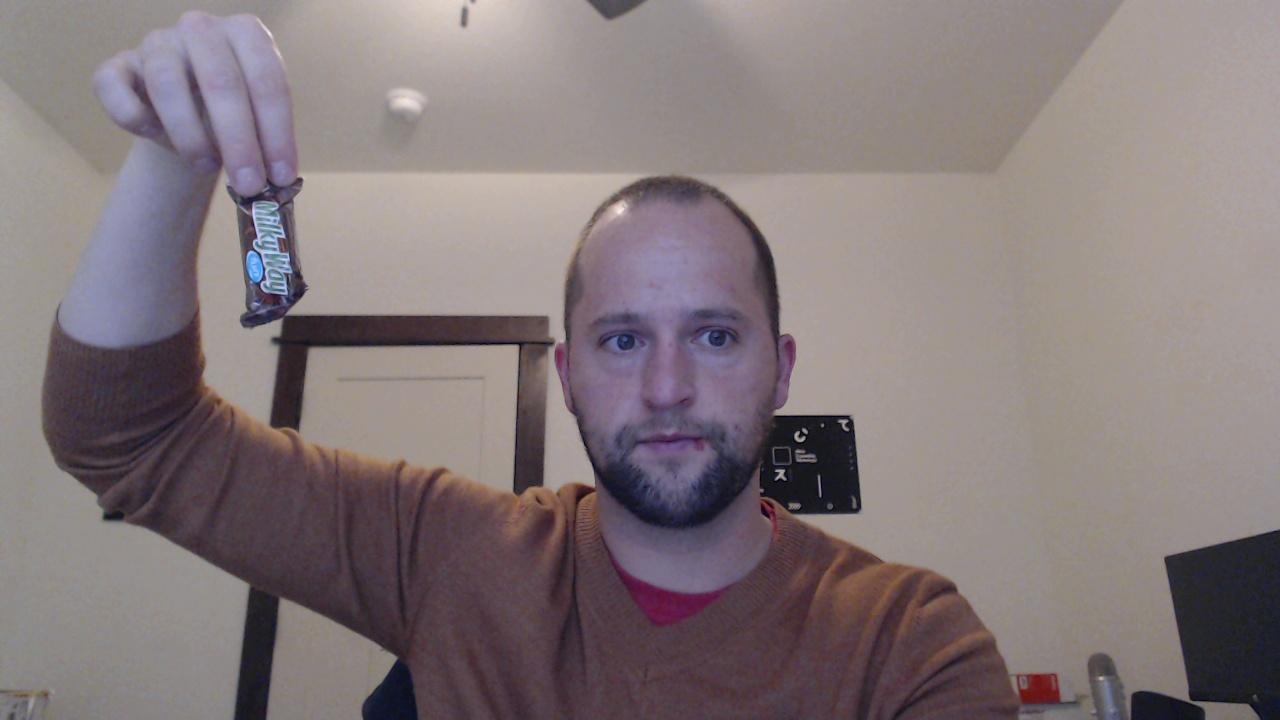milky_way: (226, 176, 311, 329)
